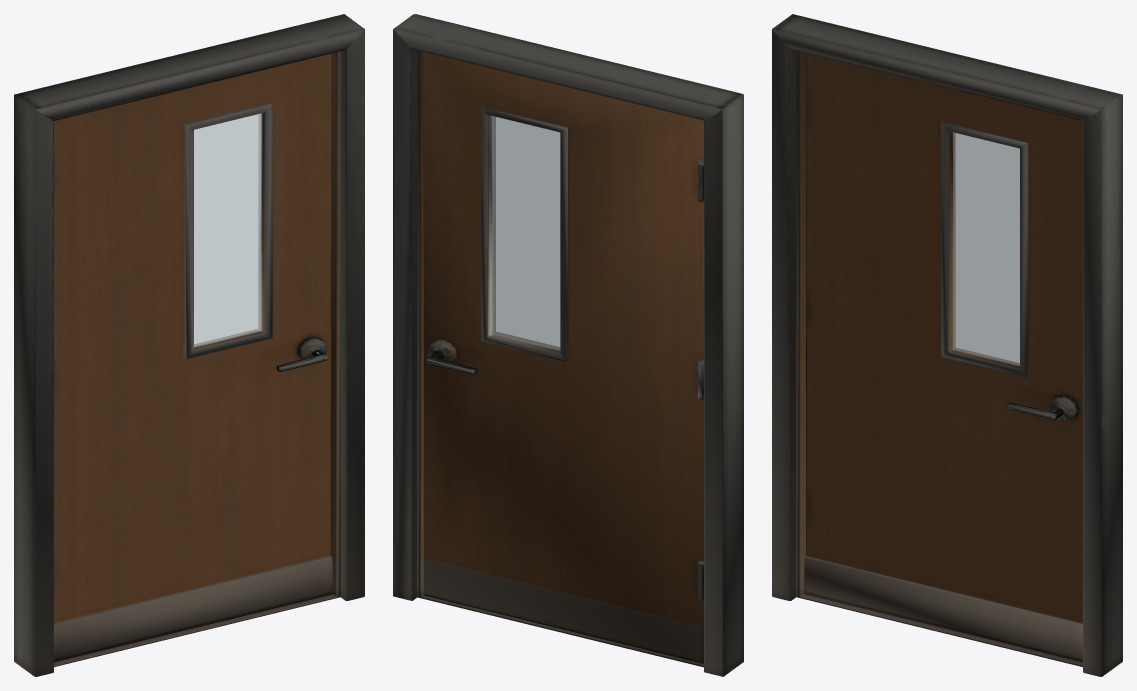
The model's file is ENV_door_v001.fbx.
3 views of the same model, side by side, from view 1: azimuth 30°, elevation 25°; view 2: azimuth 150°, elevation 25°; view 3: azimuth 330°, elevation 25° (orthographic).
Parts seen in each view (by area): view 1: tripo_node_d4de0b1f-35f4-4f16-9bf0-56c1b9fdc1bd.001, tripo_node_d4de0b1f-35f4-4f16-9bf0-56c1b9fdc1bd; view 2: tripo_node_d4de0b1f-35f4-4f16-9bf0-56c1b9fdc1bd.001, tripo_node_d4de0b1f-35f4-4f16-9bf0-56c1b9fdc1bd; view 3: tripo_node_d4de0b1f-35f4-4f16-9bf0-56c1b9fdc1bd.001, tripo_node_d4de0b1f-35f4-4f16-9bf0-56c1b9fdc1bd.
Part boxes in pixels (left/top/right/bottom): tripo_node_d4de0b1f-35f4-4f16-9bf0-56c1b9fdc1bd.001: left=54, top=53, right=332, bottom=662; tripo_node_d4de0b1f-35f4-4f16-9bf0-56c1b9fdc1bd: left=14, top=14, right=364, bottom=676; tripo_node_d4de0b1f-35f4-4f16-9bf0-56c1b9fdc1bd.001: left=423, top=52, right=703, bottom=663; tripo_node_d4de0b1f-35f4-4f16-9bf0-56c1b9fdc1bd: left=393, top=14, right=743, bottom=676; tripo_node_d4de0b1f-35f4-4f16-9bf0-56c1b9fdc1bd.001: left=804, top=53, right=1082, bottom=662; tripo_node_d4de0b1f-35f4-4f16-9bf0-56c1b9fdc1bd: left=772, top=14, right=1122, bottom=676.
Bounding box in the file's own units: 155 × 255 × 28.32.
2 materials, 1 textured.
